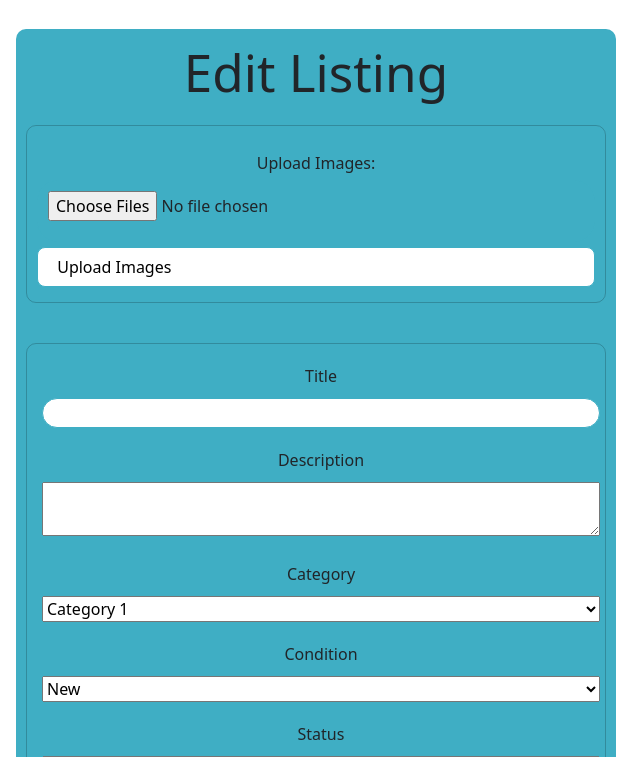
Scenario: UpdateListingForm › displays an error message on submission failure
This screenshot has width=633, height=757.
In the field labelled "Title": (321, 413) [42,398,600,428], type "Updated Title"
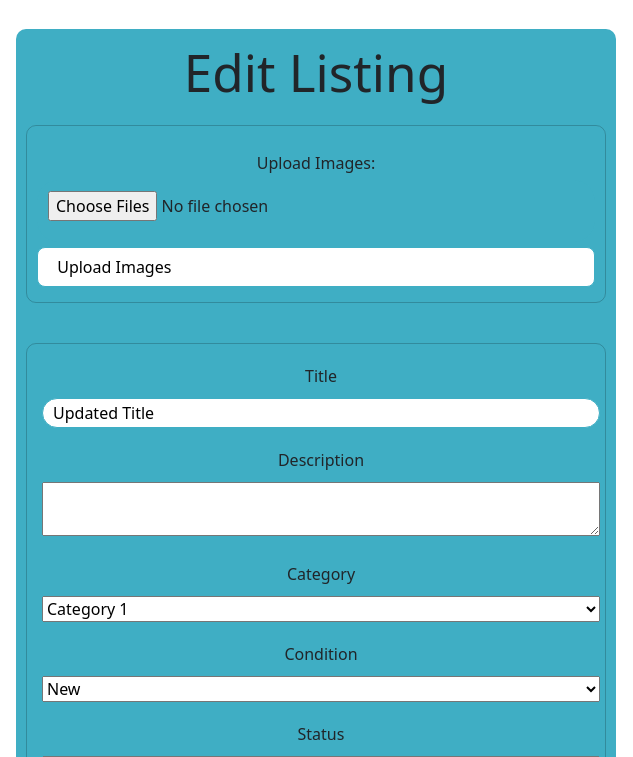
In the text box labelled "Description": (321, 509) [42,482,600,536], type "Updated Description"
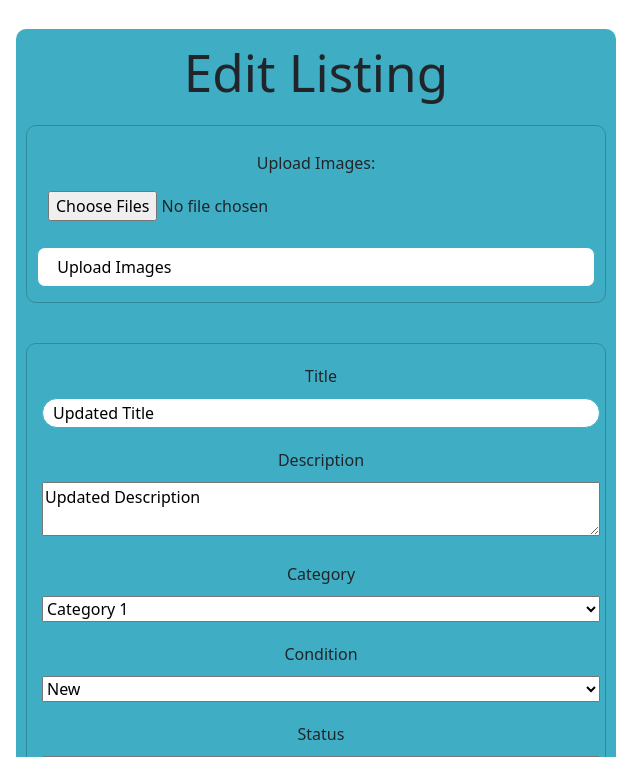
Select "Category 1" in the dropdown labelled "Category": (321, 609) [42,596,600,622]
Select "New" in the dropdown labelled "Condition": (321, 689) [42,676,600,702]
(page scrolled)
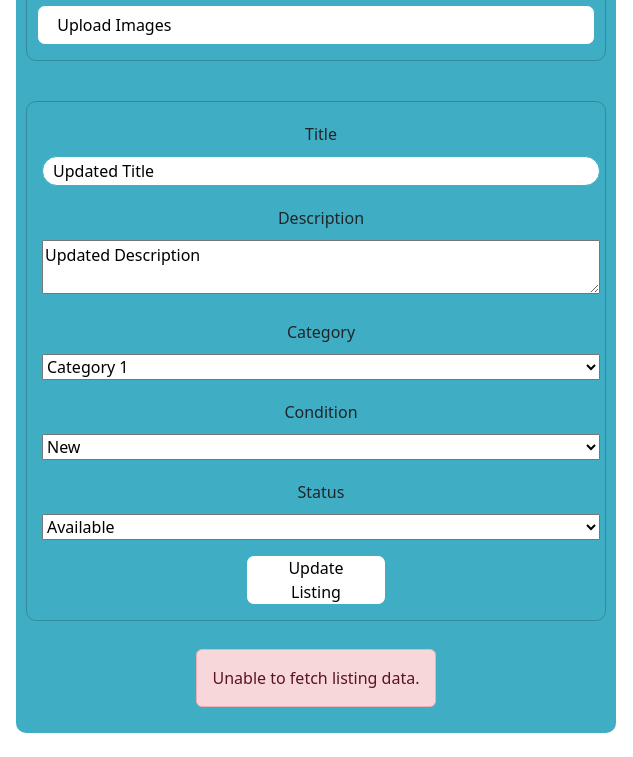
Select "Available" in the dropdown labelled "Status": (321, 527) [42,514,600,540]
Click the button "Update Listing": click(316, 580) [246,555,386,605]
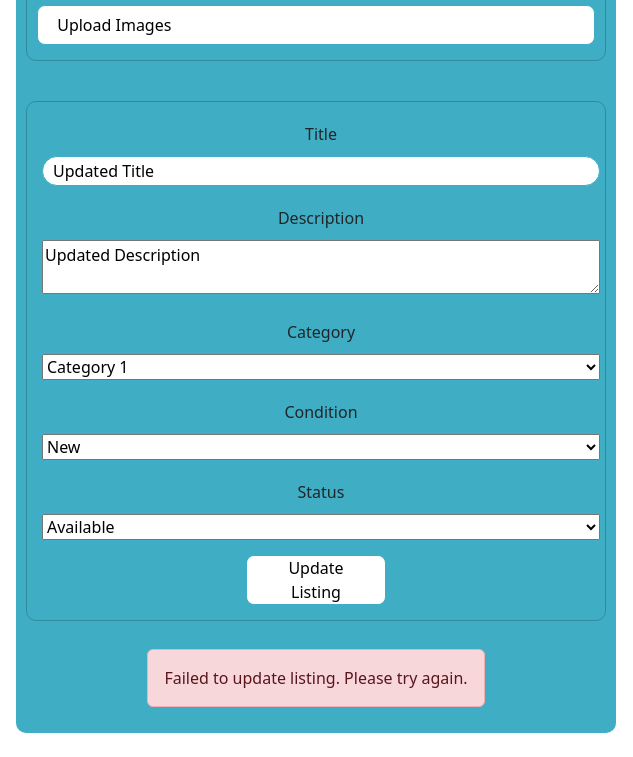
Expected: the text "Failed to update listing. Please try again." is shown, [147,649,484,707]
